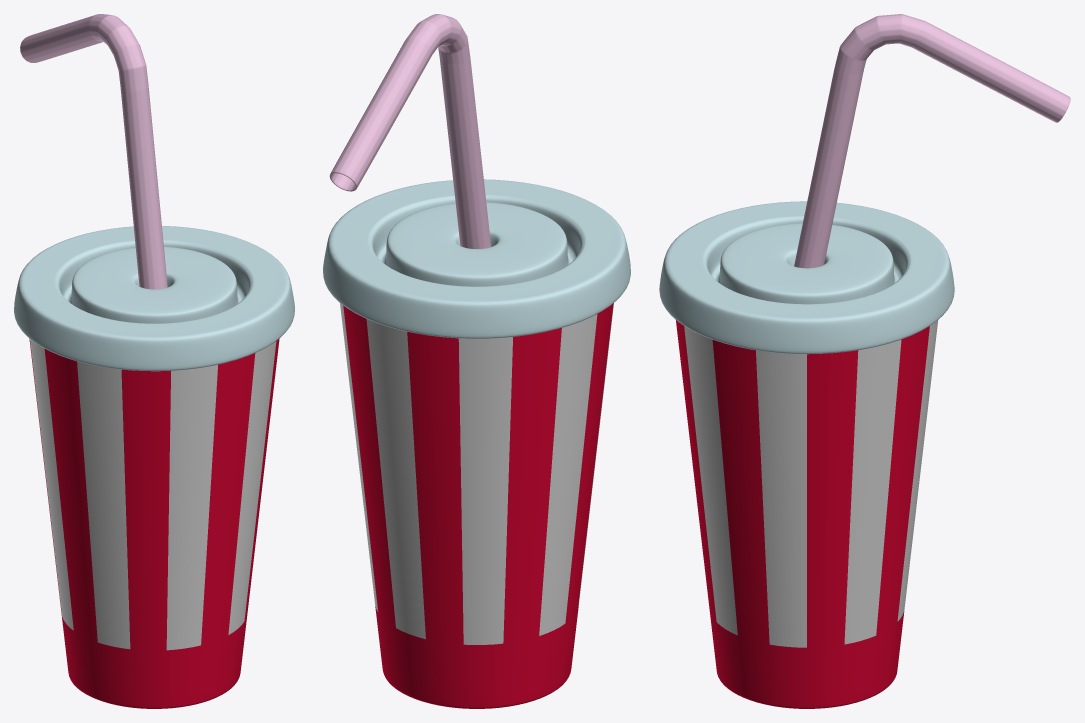
File: ебучийстакан.fbx
3 views of the same model, side by side, from view 1: azimuth 30°, elevation 25°; view 2: azimuth 150°, elevation 25°; view 3: azimuth 270°, elevation 25° (orthographic). The views are drawn at different scales.
Visible parts, largest first — view 1: Cylinder.001, Cylinder.002, Cylinder.003; view 2: Cylinder.001, Cylinder.002, Cylinder.003; view 3: Cylinder.001, Cylinder.002, Cylinder.003.
Part boxes in pixels (left/top/right/bottom): Cylinder.001: left=29, top=338, right=279, bottom=708; Cylinder.002: left=14, top=226, right=294, bottom=371; Cylinder.003: left=20, top=14, right=167, bottom=289; Cylinder.001: left=340, top=303, right=613, bottom=708; Cylinder.002: left=323, top=179, right=630, bottom=338; Cylinder.003: left=329, top=14, right=491, bottom=248; Cylinder.001: left=676, top=320, right=938, bottom=708; Cylinder.002: left=659, top=201, right=954, bottom=354; Cylinder.003: left=794, top=14, right=1070, bottom=268.
Bounding box in the file's own units: 79.47 × 195 × 111.
